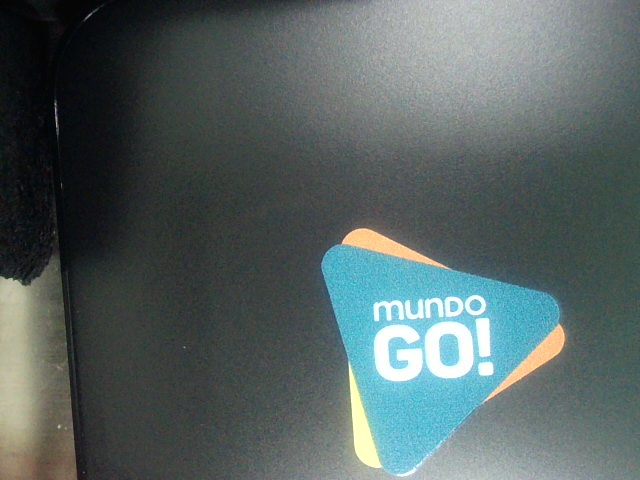AP_IPGMundoGO: (287, 208, 579, 477)
